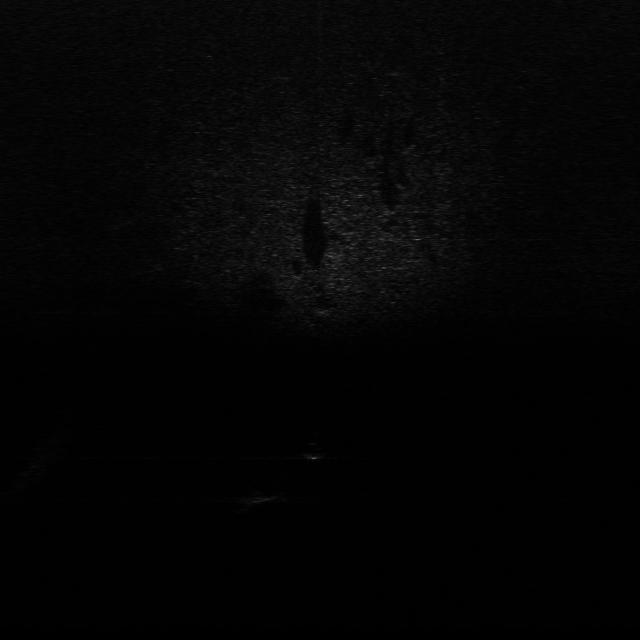ball: (300, 437, 330, 459)
square cage: (234, 489, 287, 506)
